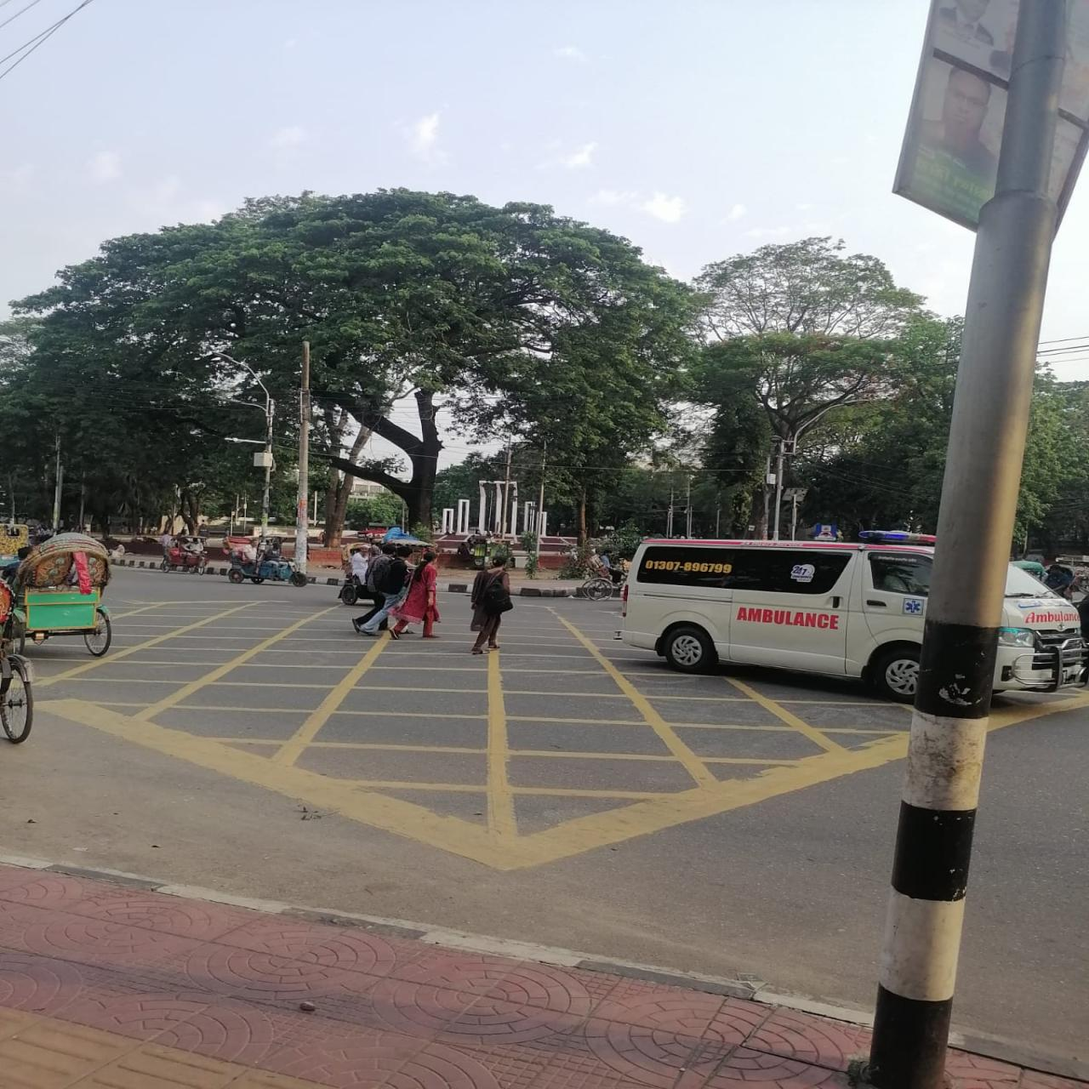person: (470, 555, 515, 656), (365, 540, 405, 631), (381, 546, 415, 639), (409, 550, 442, 642)
